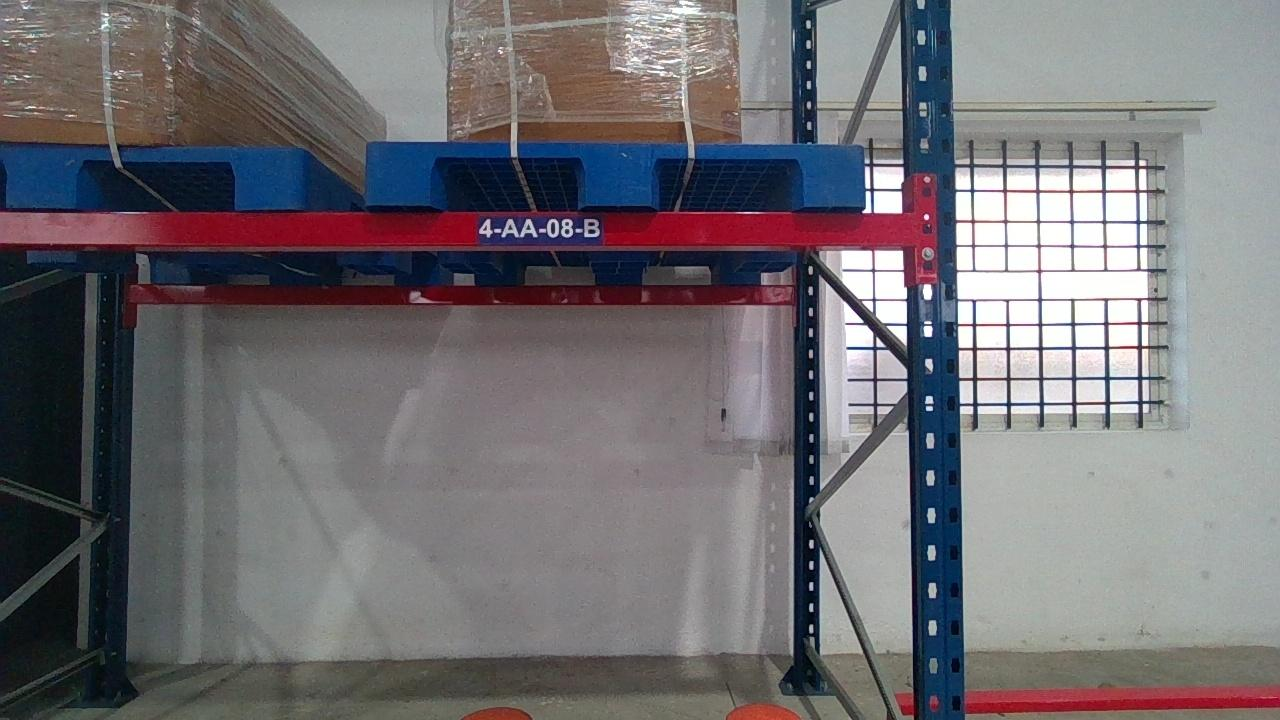h_rack: (2, 209, 918, 247)
small_pallet: (364, 140, 869, 206), (1, 144, 305, 206)
